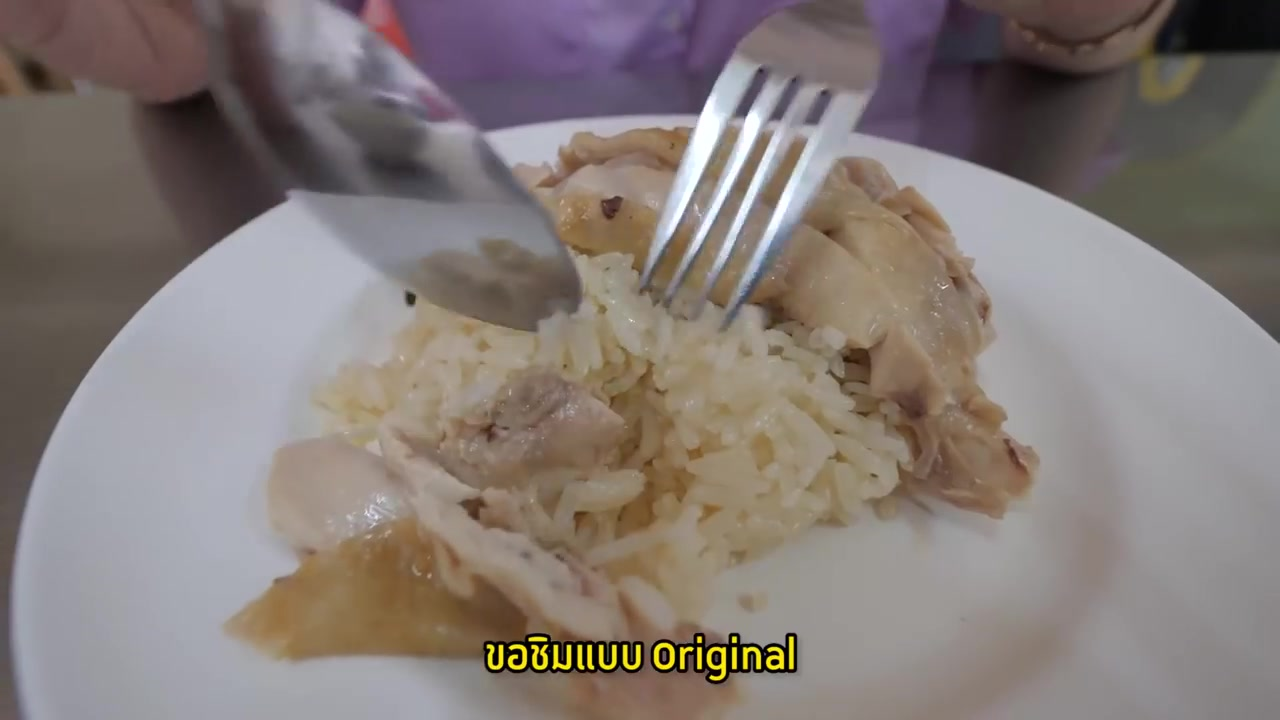text-label: (478, 626, 801, 689)
